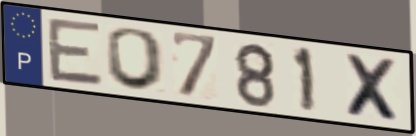1: (288, 44, 320, 114)
7: (170, 29, 220, 101)
8: (231, 39, 277, 108)
E: (45, 15, 107, 89)
O: (104, 26, 168, 93)
X: (342, 50, 406, 126)
